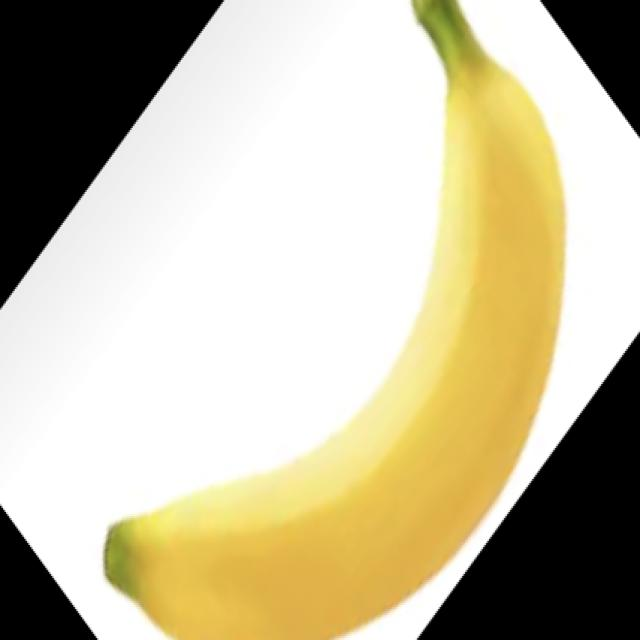god quality banana: (106, 2, 567, 639)
